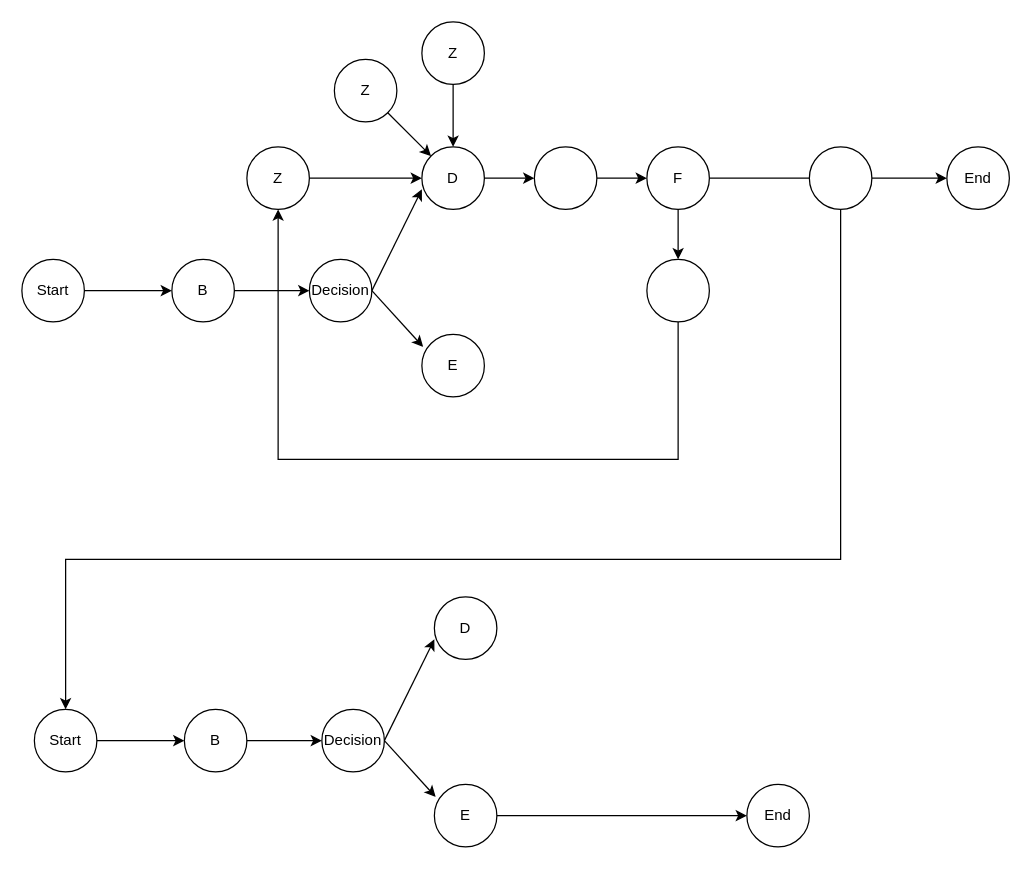
This 1031x869 diagram has some shape labels left out. Each missing label, with the centre of its shape:
"Branch" goes at point (677, 290).
"Call" goes at point (840, 177).
"FF" goes at point (565, 177).
